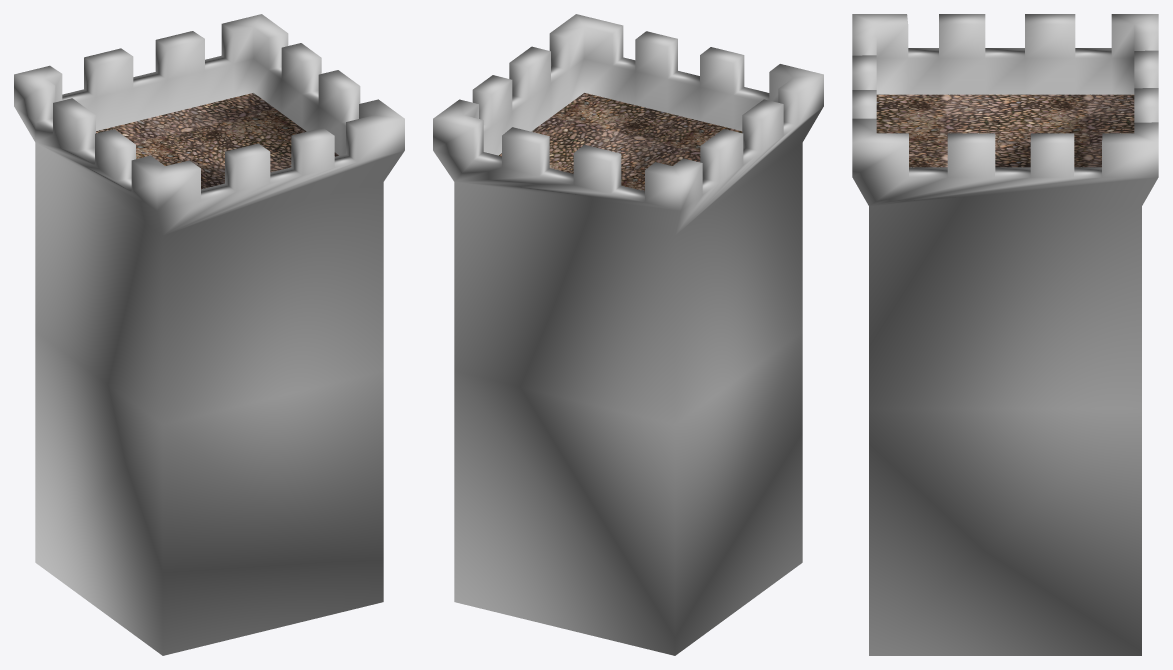
File: TowerB.fbx
The picture shows the model from 3 angles, left to right: view 1: azimuth 30°, elevation 25°; view 2: azimuth 150°, elevation 25°; view 3: azimuth 270°, elevation 25°; orthographic projection. The views are drawn at different scales.
Parts seen in each view (by area): view 1: TowerB; view 2: TowerB; view 3: TowerB.
Boxes of the visible parts, x1,y1,x2,y2 form: TowerB: (14, 14, 404, 655); TowerB: (433, 14, 823, 655); TowerB: (852, 14, 1158, 655).
Bounding box in the file's own units: 284 × 532 × 284.
